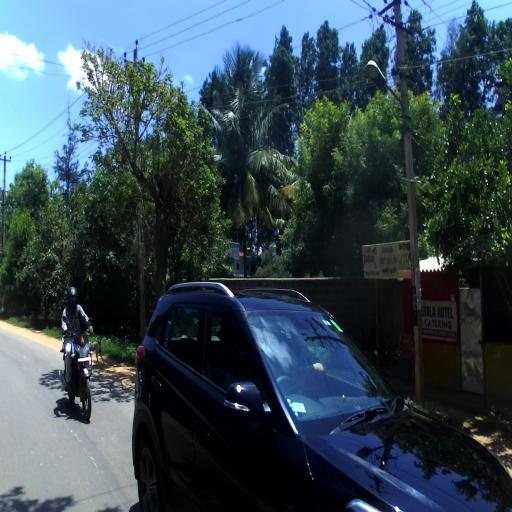street_light_0: (365, 60, 414, 137)
